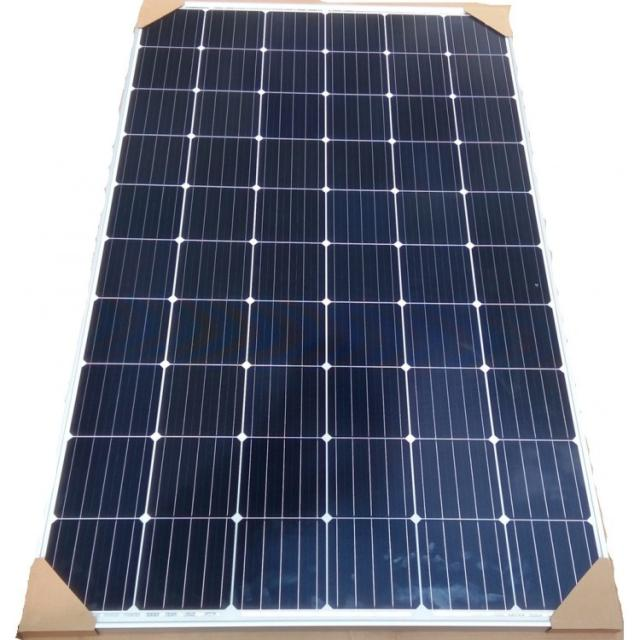clean-solar-panel: (99, 14, 541, 640)
